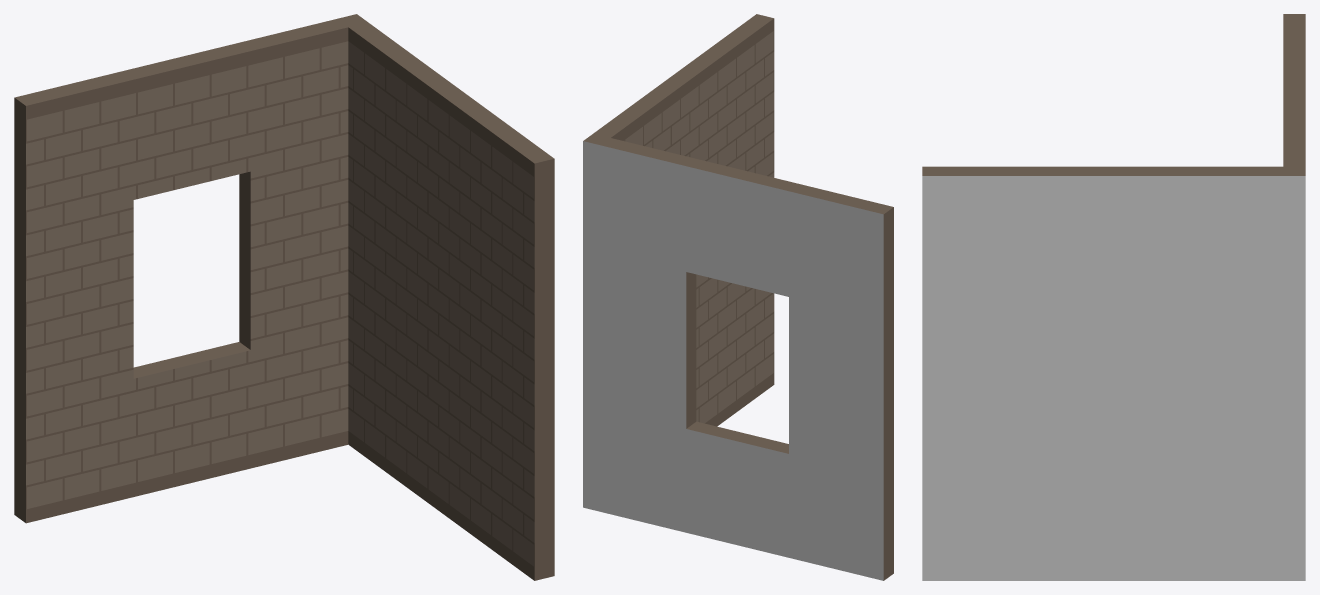
File: Wall1_C10_07.fbx
3 views of the same model, side by side, from view 1: azimuth 30°, elevation 25°; view 2: azimuth 150°, elevation 25°; view 3: azimuth 270°, elevation 25° (orthographic). The views are drawn at different scales.
Parts seen in each view (by area): view 1: Wall1_C10_07; view 2: Wall1_C10_07; view 3: Wall1_C10_07.
Part boxes in pixels (bbox=[...]): Wall1_C10_07: bbox=[14, 14, 554, 580]; Wall1_C10_07: bbox=[583, 14, 893, 580]; Wall1_C10_07: bbox=[922, 14, 1305, 580].
Bounding box in the file's own units: 258 × 300 × 258.
